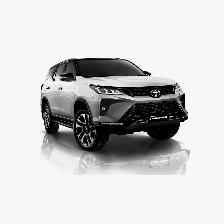NON-EV: (42, 57, 190, 154)
